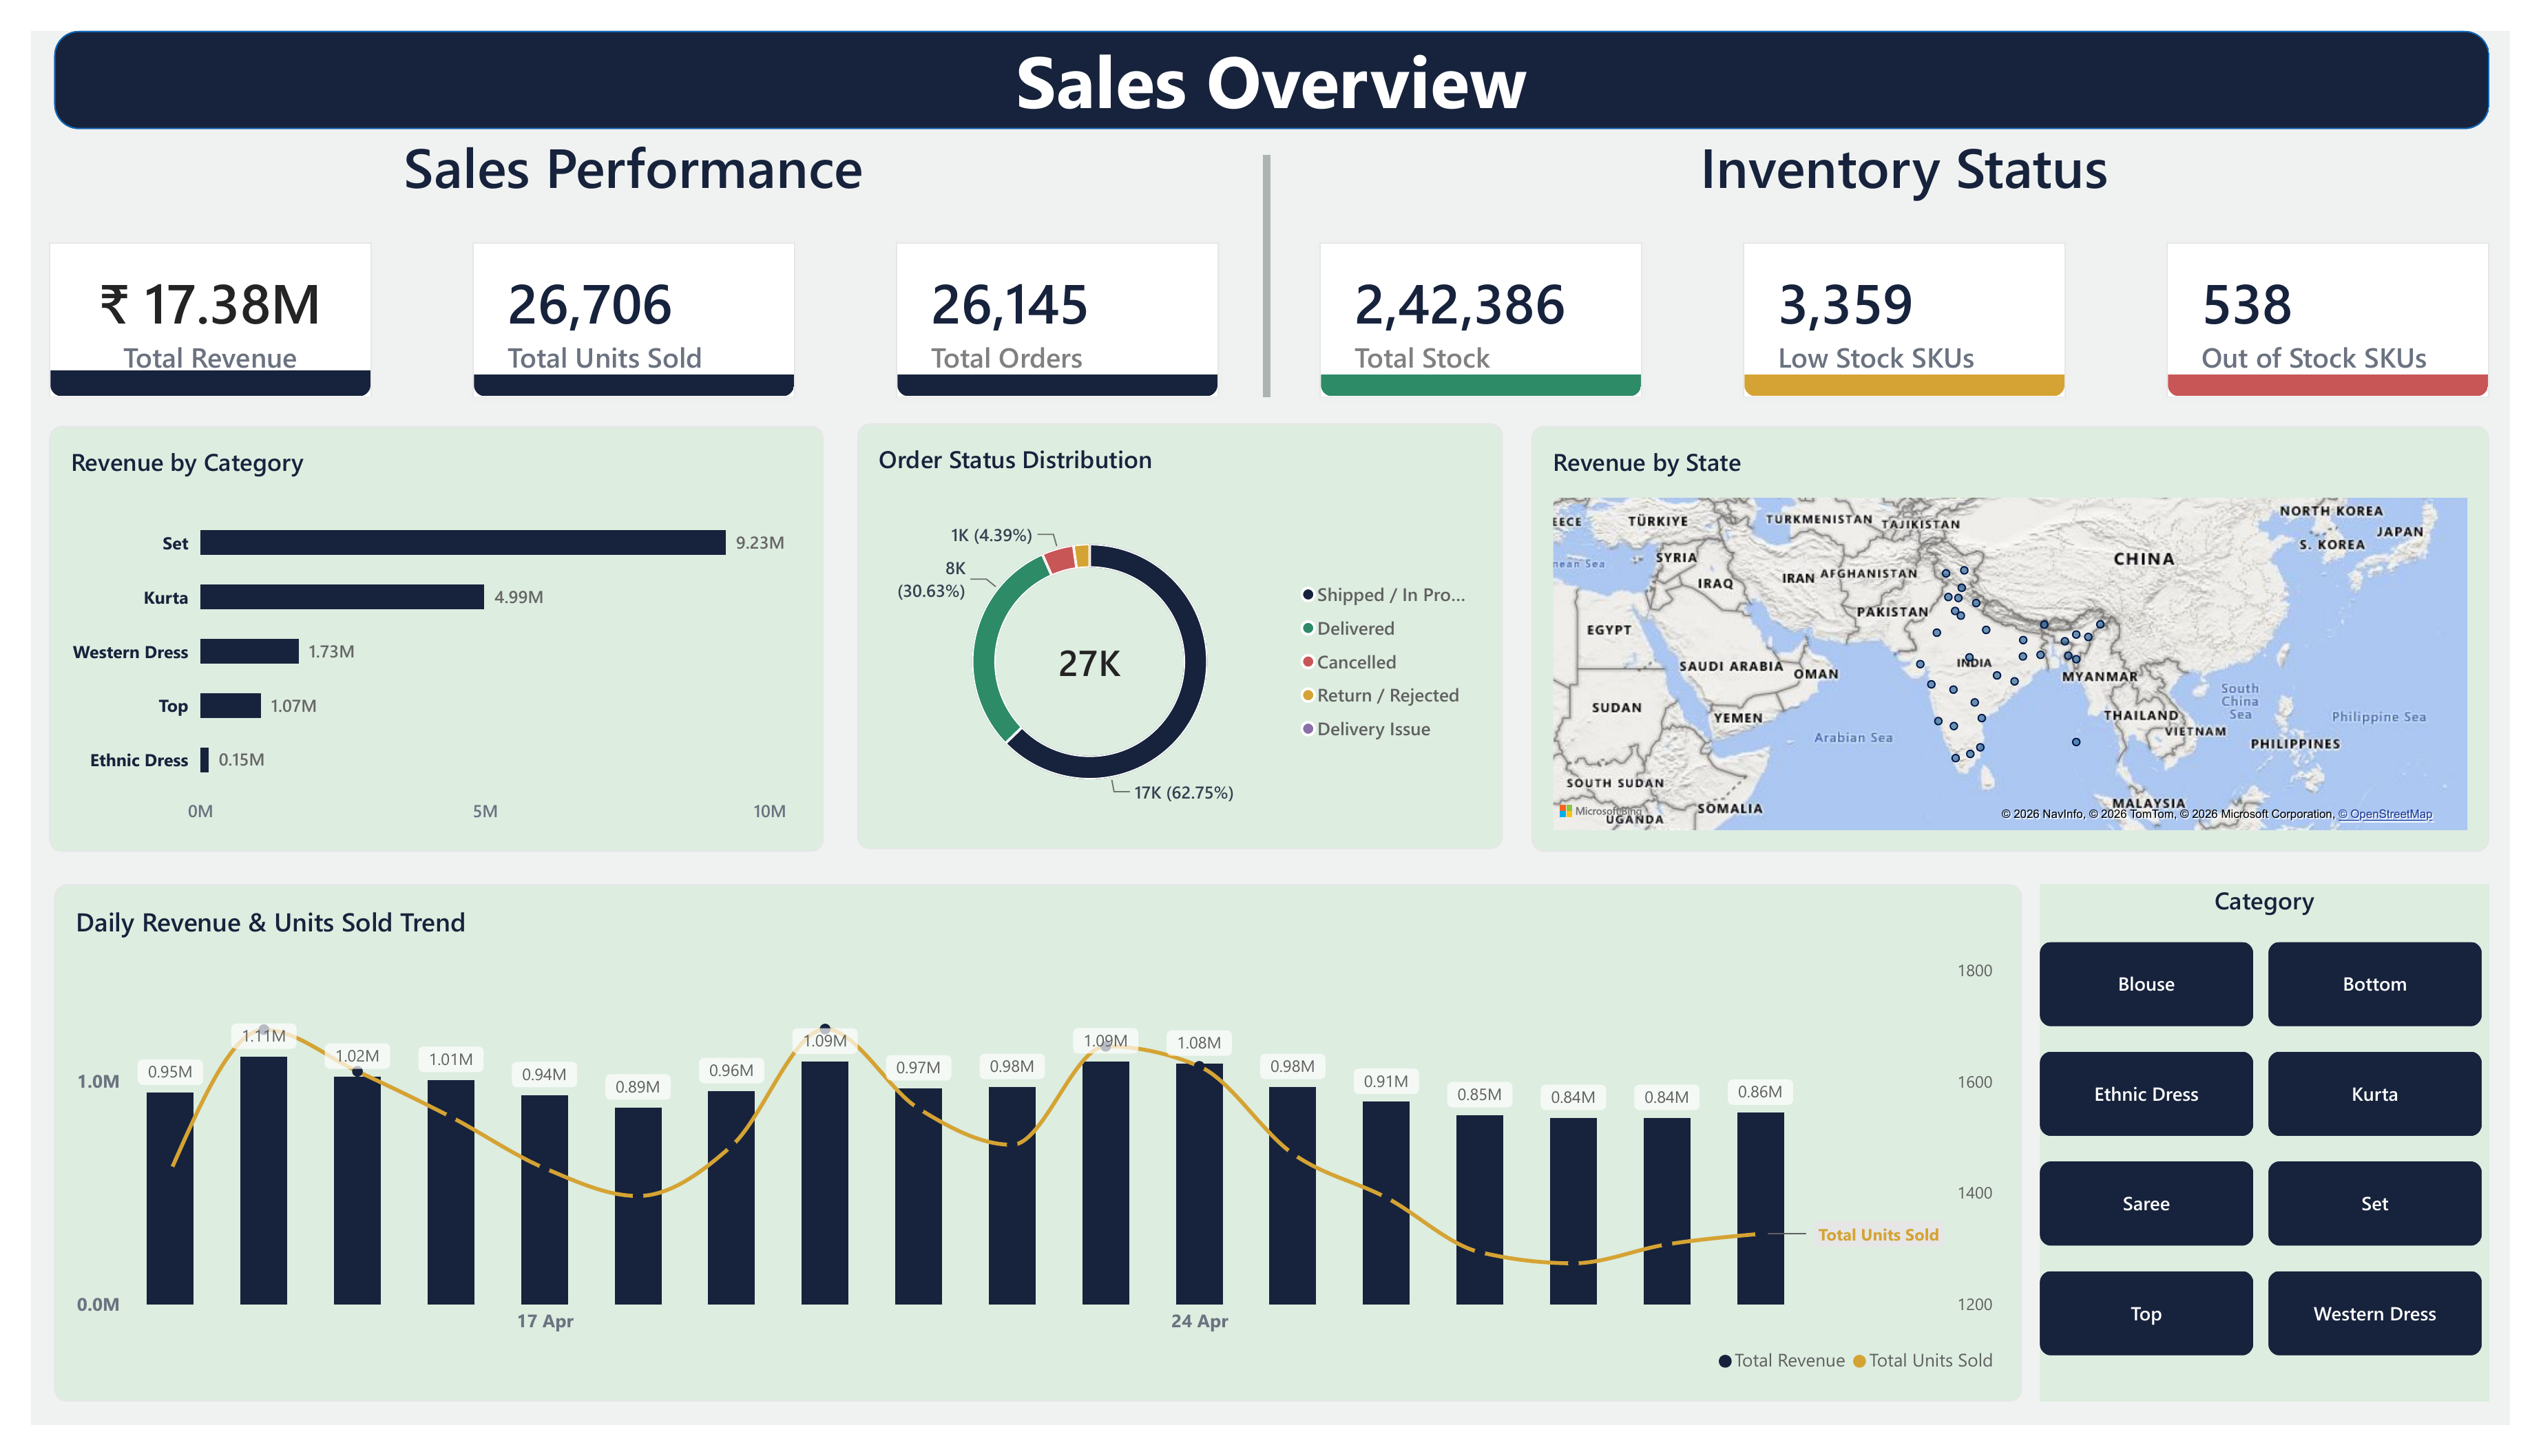

The page's visual inventory and layout, read from the dashboard file:
{"tool":"powerbi","page":{"name":"Sales Overview","canvas":[1920,1080],"ordinal":0},"visuals":[{"type":"cardVisual","fields":{"Data":["Dim_SKU.Total Revenue"]},"box":[14,164,250,120],"z":0},{"type":"cardVisual","fields":{"Data":["Dim_SKU.Total Units Sold"]},"box":[342,164,250,120],"z":1000},{"type":"cardVisual","fields":{"Data":["Dim_SKU.Total Orders"]},"box":[670,164,250,120],"z":2000},{"type":"cardVisual","fields":{"Data":["Dim_SKU.Total Stock"]},"box":[998,164,250,120],"z":3000},{"type":"cardVisual","fields":{"Data":["Dim_SKU.Low Stock SKUs"]},"box":[1326,164,250,120],"z":4000},{"type":"cardVisual","fields":{"Data":["Dim_SKU.Out of Stock SKUs"]},"box":[1654,164,250,120],"z":5000},{"type":"clusteredBarChart","title":"Revenue by Category","fields":{"Category":["fashion_retail_analytics amazon_sales_cleaned.category"],"Y":["Dim_SKU.Total Revenue"]},"box":[14,306,600,330],"z":6000},{"type":"map","title":"Revenue by State","fields":{"Category":["fashion_retail_analytics amazon_sales_cleaned.ship_state"]},"box":[1161.8,305.8,742,330],"z":7000},{"type":"donutChart","title":"Order Status Distribution","fields":{"Category":["fashion_retail_analytics amazon_sales_cleaned.status_group"],"Y":["Dim_SKU.Total Units Sold"]},"box":[640,304,500,330],"z":8000},{"type":"lineClusteredColumnComboChart","title":"Daily Revenue & Units Sold Trend","fields":{"Category":["fashion_retail_analytics amazon_sales_cleaned.date"],"Y":["Dim_SKU.Total Revenue"],"Y2":["Dim_SKU.Total Units Sold"]},"box":[18.1,660.5,1523.7,401.7],"z":9000},{"type":"shape","box":[18,0,1886,76],"z":10000},{"type":"textbox","box":[18.1,0,1885.7,76],"z":11000},{"type":"textbox","box":[14,76,906,88],"z":12000},{"type":"textbox","box":[998,76,906,88],"z":13000},{"type":"shape","box":[954,96,6,188],"z":15000},{"type":"advancedSlicerVisual","title":"Category","fields":{"Values":["fashion_retail_analytics amazon_sales_cleaned.category"]},"box":[1556.3,660.5,347.5,401.7],"z":15001}]}

Visuals, with their boxes in screenshot pixels (x1, y1, x2, y2), scaled from the page's 1920x1080 canvas onto the 2541x1456 screenshot:
cardVisual - Dim_SKU.Total Revenue: BBox(19, 221, 349, 383)
cardVisual - Dim_SKU.Total Units Sold: BBox(452, 221, 784, 383)
cardVisual - Dim_SKU.Total Orders: BBox(887, 221, 1217, 383)
cardVisual - Dim_SKU.Total Stock: BBox(1321, 221, 1651, 383)
cardVisual - Dim_SKU.Low Stock SKUs: BBox(1755, 221, 2086, 383)
cardVisual - Dim_SKU.Out of Stock SKUs: BBox(2189, 221, 2520, 383)
"Revenue by Category" clusteredBarChart: BBox(19, 412, 813, 858)
"Revenue by State" map: BBox(1538, 412, 2520, 857)
"Order Status Distribution" donutChart: BBox(847, 410, 1509, 855)
"Daily Revenue & Units Sold Trend" lineClusteredColumnComboChart: BBox(24, 890, 2040, 1432)
shape: BBox(24, 0, 2520, 103)
textbox: BBox(24, 0, 2520, 103)
textbox: BBox(19, 103, 1217, 221)
textbox: BBox(1321, 103, 2520, 221)
shape: BBox(1262, 129, 1270, 383)
"Category" advancedSlicerVisual: BBox(2060, 890, 2520, 1432)
